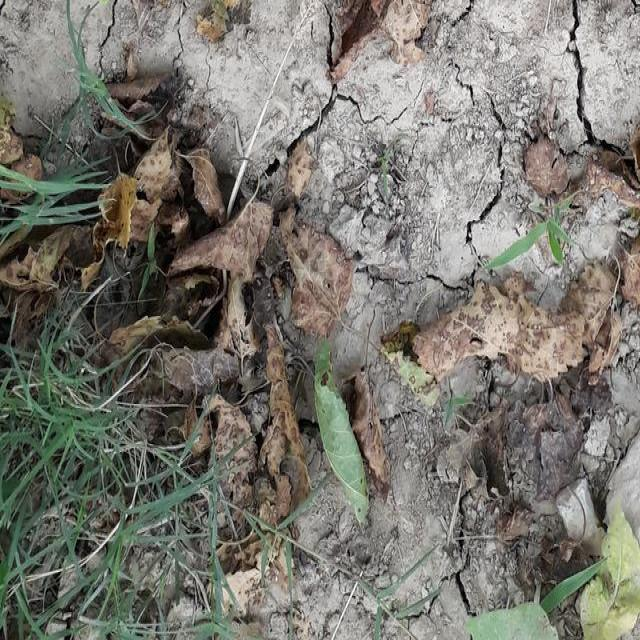weed: (1, 331, 218, 632), (63, 0, 143, 168), (0, 165, 113, 256), (498, 193, 564, 287), (543, 547, 614, 602)
